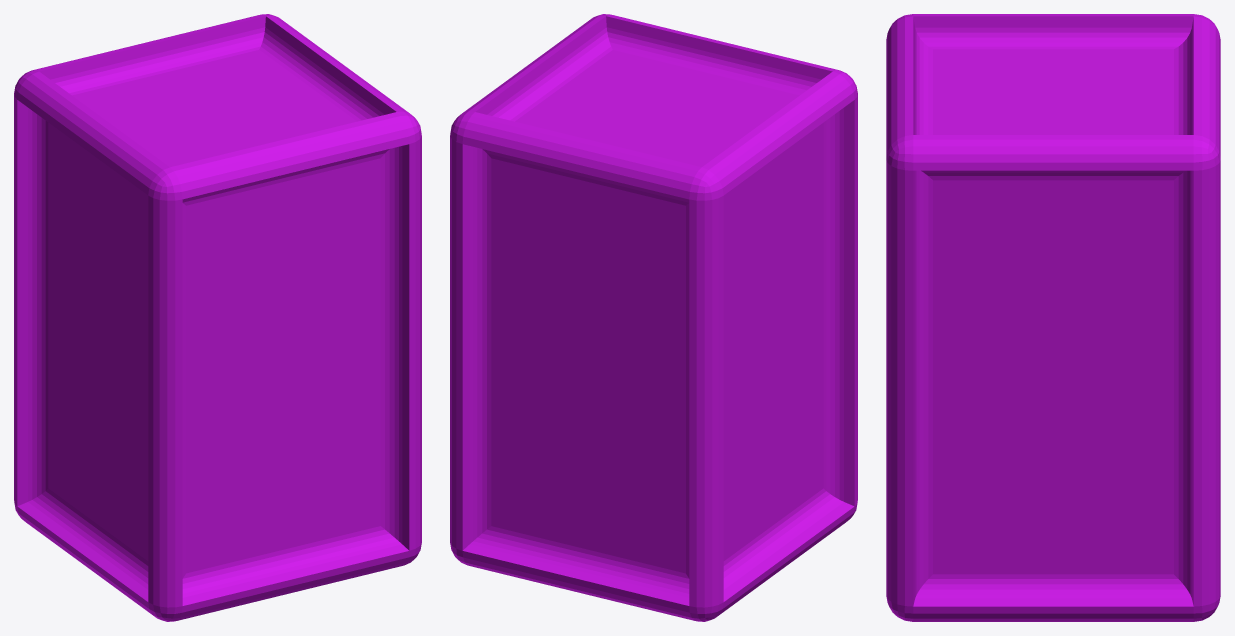
Rendered from simplebox.glb.
3 renders of one model, left to right at view 1: azimuth 30°, elevation 25°; view 2: azimuth 150°, elevation 25°; view 3: azimuth 270°, elevation 25°, orthographic. The views are drawn at different scales.
Visible parts, largest first — view 1: Cube; view 2: Cube; view 3: Cube.
Part boxes in pixels (box(x1,y1,x2,y2)): Cube: box(14, 14, 421, 621); Cube: box(450, 14, 857, 621); Cube: box(886, 14, 1220, 621).
Bounding box in the file's own units: 2 × 3.2 × 2.
